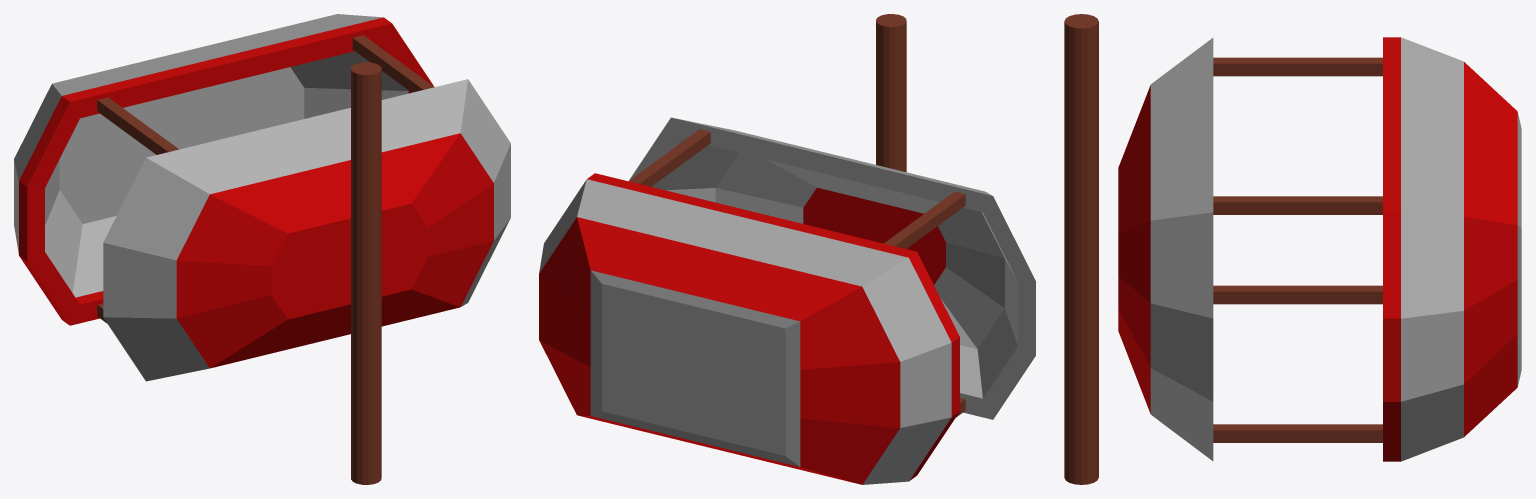
File: cabina.obj
3 renders of one model, left to right at view 1: azimuth 30°, elevation 25°; view 2: azimuth 150°, elevation 25°; view 3: azimuth 270°, elevation 25°, orthographic. The views are drawn at different scales.
Visible parts, largest first — view 1: cabina; view 2: cabina; view 3: cabina.
Boxes of the visible parts, x1,y1,x2,y2 form: cabina: (14,14,510,484); cabina: (539,14,1035,484); cabina: (1064,14,1521,484).
Bounding box in the file's own units: 1.85 × 1.77 × 1.61.
